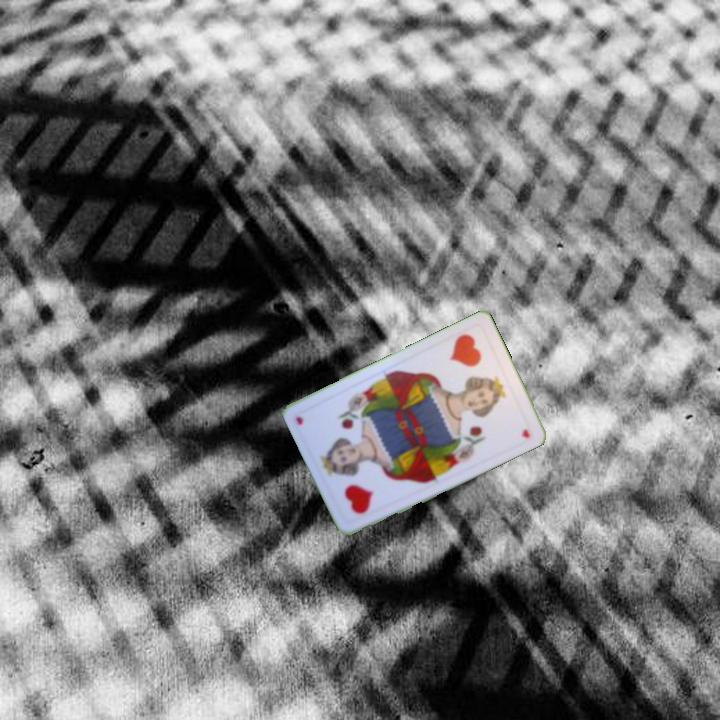h_q.png: (319, 443, 399, 527), (431, 321, 510, 405)
